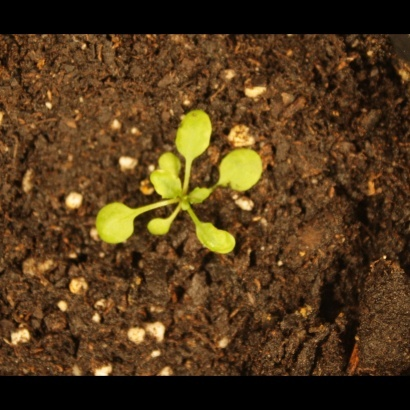leaf: (218, 142, 268, 200), (92, 200, 142, 248), (174, 106, 214, 162), (190, 218, 239, 258), (146, 169, 189, 202), (156, 151, 184, 180), (147, 214, 176, 239), (189, 184, 212, 207)
